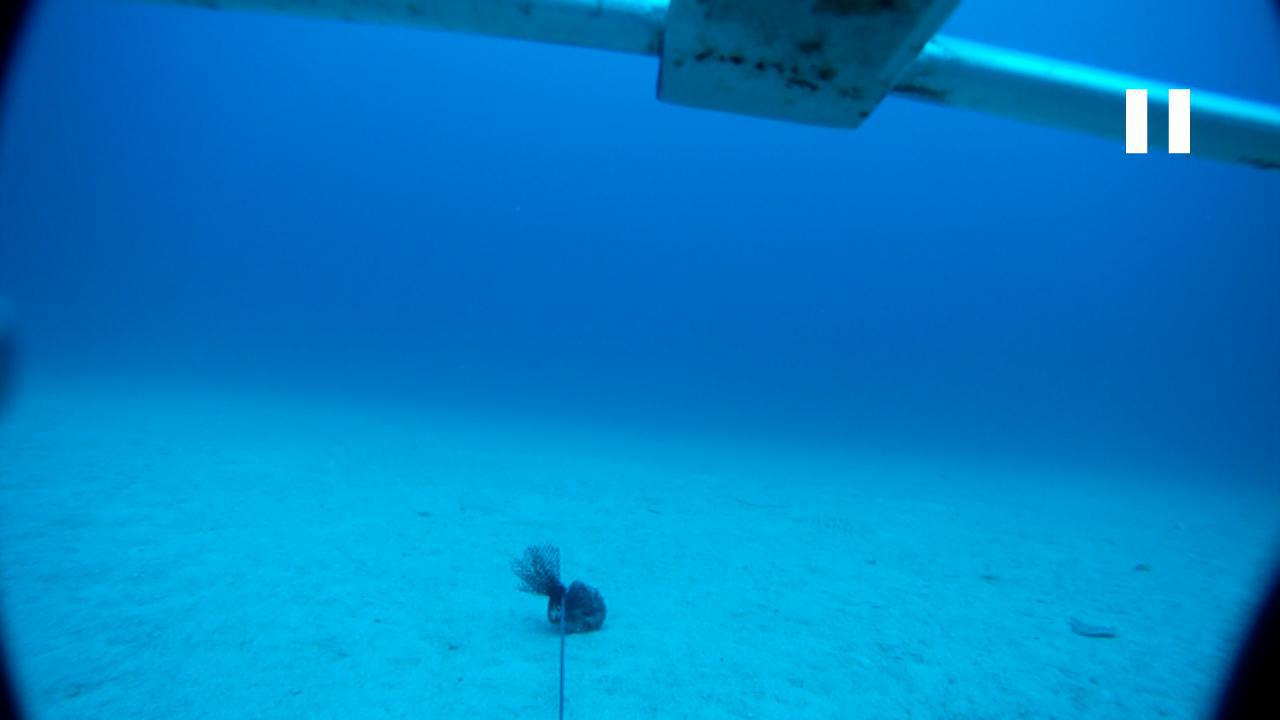bothus: (1058, 614, 1124, 644)
